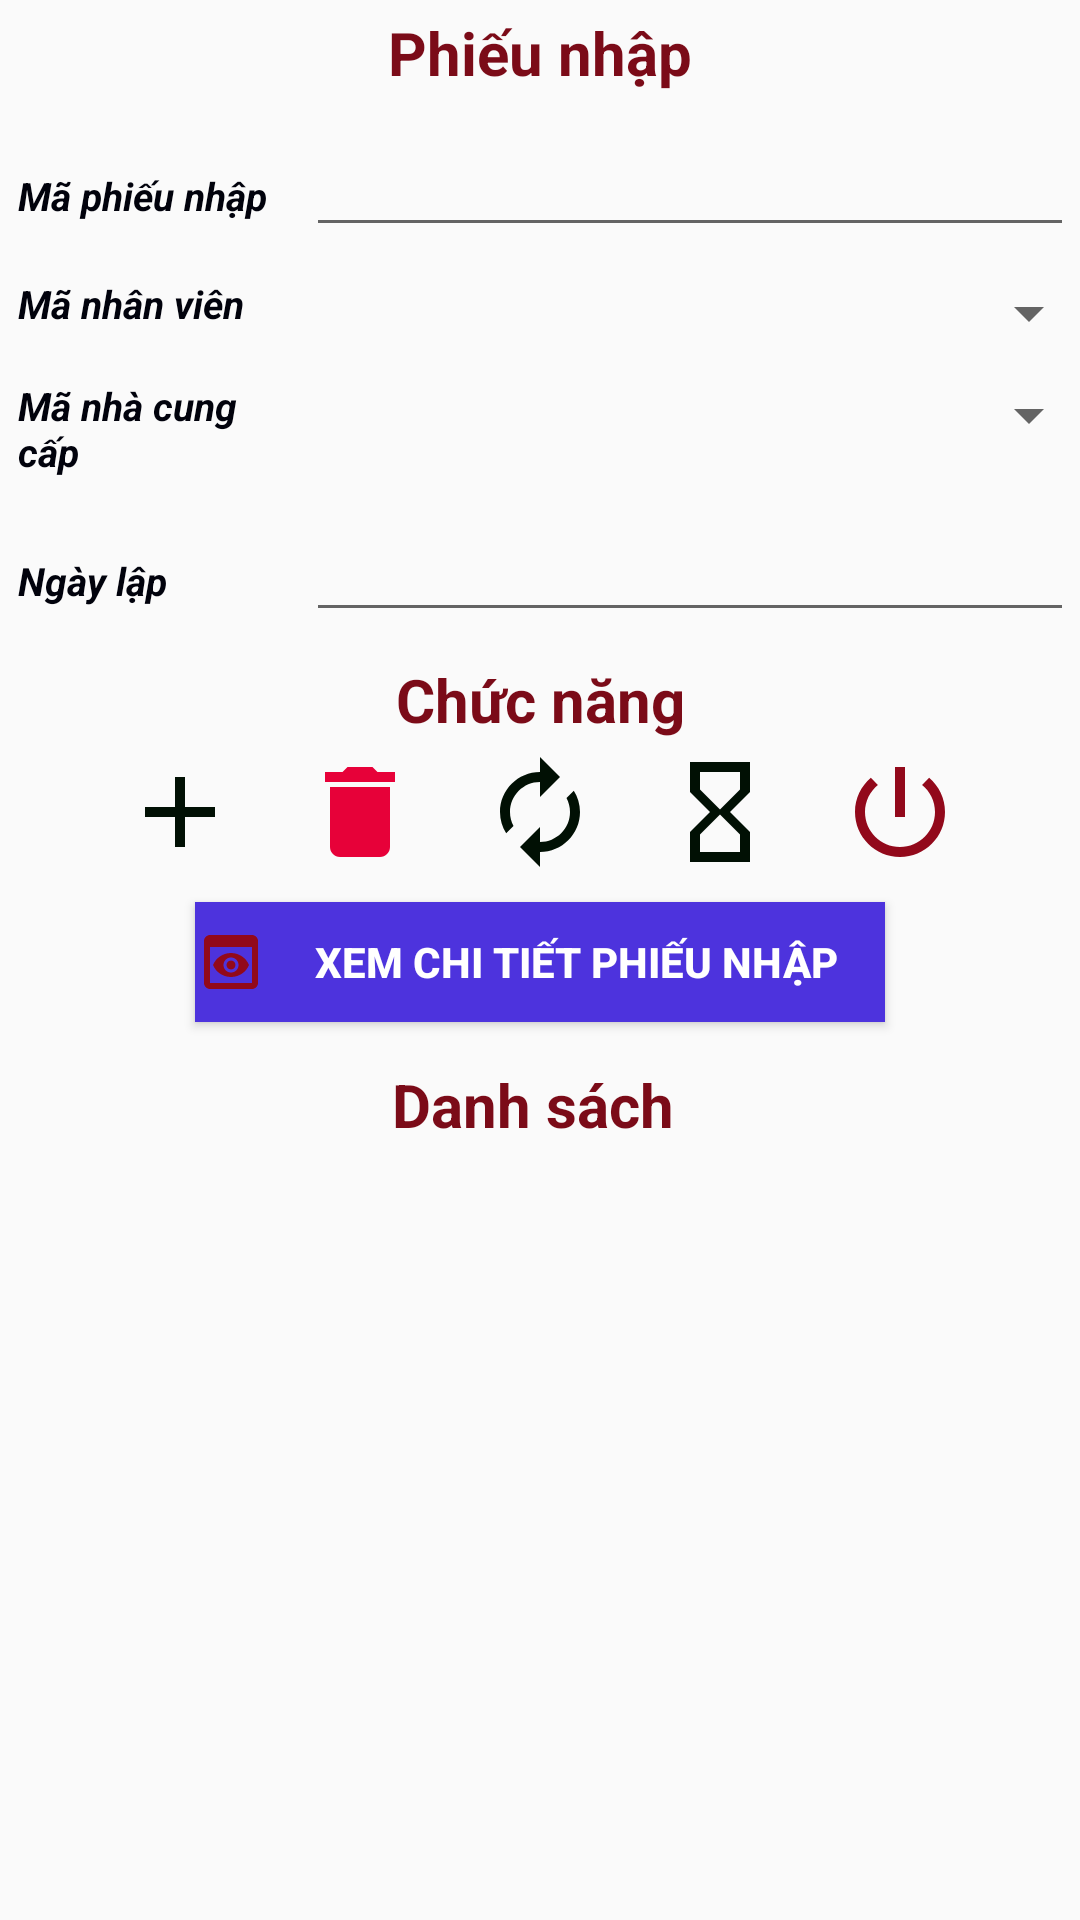

Where icons sit on this 1080x1920 app screen, as (x1,y1,x2,y2):
add: (145,777,215,847)
delete: (325,767,395,857)
hourglass empty: (690,762,750,862)
power settings: (855,767,945,857)
update: (500,757,580,867)
